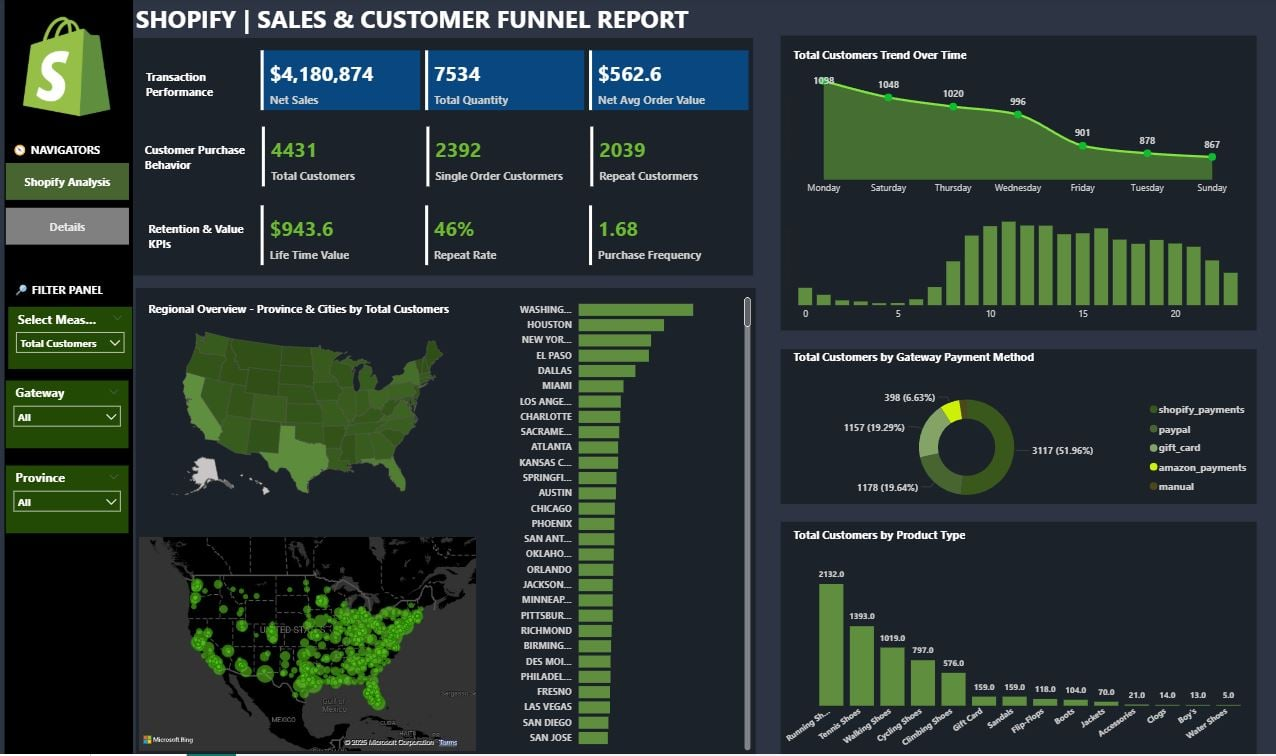

The page's visual inventory and layout, read from the dashboard file:
{"tool":"powerbi","page":{"name":"Shopify Analysis","canvas":[1700,1000],"ordinal":0},"visuals":[{"type":"shape","box":[9.1,0,170,1000.5],"z":0},{"type":"textbox","box":[178.6,0,761.8,63.8],"z":1000},{"type":"shape","box":[180.2,52.9,820.1,314.2],"z":2000},{"type":"cardVisual","fields":{"Data":["shopify_sales.Net Sales","shopify_sales.Total Quantity","shopify_sales.Net Avg Order Value"]},"box":[343.9,64.5,656.4,89.3],"z":3000},{"type":"cardVisual","fields":{"Data":["shopify_sales.Transactipn Perf"]},"box":[180.2,64.5,162,89.3],"z":4000},{"type":"cardVisual","fields":{"Data":["shopify_sales.Total Customers","shopify_sales.Single Order Custormers","shopify_sales.Repeat Custormers"]},"box":[345.6,165.3,656.4,89.3],"z":5000},{"type":"cardVisual","fields":{"Data":["shopify_sales.Customer Purchase Behavior"]},"box":[178.6,165.3,185.2,104.2],"z":6000},{"type":"cardVisual","fields":{"Data":["shopify_sales.Avg LTV","shopify_sales.Repeat Rate","shopify_sales.Purchase Frequency"]},"box":[344.3,269.3,656.4,89.3],"z":7000},{"type":"cardVisual","fields":{"Data":["shopify_sales.RetentionValue"]},"box":[183.9,269.3,160.4,89.3],"z":8000},{"type":"shape","box":[183.5,383.6,820.1,616.7],"z":9000},{"type":"shapeMap","fields":{"Value":["shopify_sales.Net Sales"],"Category":["shopify_sales.Billing Address Province"]},"box":[183.5,424.9,454.7,249.7],"z":10000},{"type":"slicer","fields":{"Values":["Select Measure.Select Measure"]},"box":[14.9,408.4,163.7,82.7],"z":11000},{"type":"map","fields":{"Size":["shopify_sales.Net Sales"],"Category":["shopify_sales.Location"]},"box":[183.5,707.7,454.7,292.7],"z":12000},{"type":"clusteredBarChart","fields":{"Y":["shopify_sales.Net Sales"],"Category":["shopify_sales.CITY"]},"box":[674.6,383.6,327.4,616.7],"z":13000},{"type":"cardVisual","fields":{"Data":["shopify_sales.Map Title"]},"box":[183.5,375.3,469.6,64.5],"z":14000},{"type":"shape","box":[1036.7,49.6,630,390.2],"z":15000},{"type":"areaChart","fields":{"Y":["shopify_sales.Net Sales"],"Category":["shopify_sales.DayOfWeekName"]},"box":[1036.7,90.9,610.1,178.6],"z":16000},{"type":"columnChart","fields":{"Y":["shopify_sales.Net Sales"],"Category":["shopify_sales.Hour"]},"box":[1036.7,269.5,610.1,167],"z":17000},{"type":"cardVisual","fields":{"Data":["shopify_sales.Trend Title"]},"box":[1036.7,39.7,400.1,51.3],"z":18000},{"type":"shape","box":[1036.7,464.6,630,205],"z":19000},{"type":"donutChart","fields":{"Y":["shopify_sales.Net Sales"],"Category":["shopify_sales.Gateway"]},"box":[1036.7,509.3,630,170.3],"z":20000},{"type":"cardVisual","fields":{"Data":["shopify_sales.Gateway Title Payment"]},"box":[1036.7,439.8,400.1,51.3],"z":21000},{"type":"shape","box":[1036.7,692.8,630,307.5],"z":22000},{"type":"clusteredColumnChart","fields":{"Y":["shopify_sales.Net Sales"],"Category":["shopify_sales.Product Type"]},"box":[1036.7,739.1,630,261.2],"z":23000},{"type":"cardVisual","fields":{"Data":["shopify_sales.Product Title"]},"box":[1036.7,674.6,400.1,51.3],"z":24000},{"type":"image","box":[21.5,19.8,142.2,142.2],"z":25000},{"type":"slicer","fields":{"Values":["shopify_sales.Gateway"]},"box":[11.6,506,162,89.3],"z":25001},{"type":"slicer","fields":{"Values":["shopify_sales.Billing Address Province"]},"box":[11.6,618.4,162,89.3],"z":25002},{"type":"pageNavigator","box":[11.6,218.3,163.7,109.1],"z":25003},{"type":"cardVisual","fields":{"Data":["shopify_sales.SectionTitle"]},"box":[3.3,165.3,183.5,64.5],"z":25004},{"type":"cardVisual","fields":{"Data":["shopify_sales.SectionTitle1"]},"box":[5,350.5,183.5,64.5],"z":25006}]}

Visuals, with their boxes on the page's 1700x1000 design canvas (x1, y1, x2, y2). These are canvas units, not pixel positions in the 1276x756 screenshot, which may show the page scaled, cropped or inside an application window:
shape: rect(9, 0, 179, 1000)
textbox: rect(179, 0, 940, 64)
shape: rect(180, 53, 1000, 367)
cardVisual - shopify_sales.Net Sales x shopify_sales.Total Quantity: rect(344, 64, 1000, 154)
cardVisual - shopify_sales.Transactipn Perf: rect(180, 64, 342, 154)
cardVisual - shopify_sales.Total Customers x shopify_sales.Single Order Custormers: rect(346, 165, 1002, 255)
cardVisual - shopify_sales.Customer Purchase Behavior: rect(179, 165, 364, 270)
cardVisual - shopify_sales.Avg LTV x shopify_sales.Repeat Rate: rect(344, 269, 1001, 359)
cardVisual - shopify_sales.RetentionValue: rect(184, 269, 344, 359)
shape: rect(184, 384, 1004, 1000)
shapeMap - shopify_sales.Net Sales x shopify_sales.Billing Address Province: rect(184, 425, 638, 675)
slicer - Select Measure.Select Measure: rect(15, 408, 179, 491)
map - shopify_sales.Net Sales x shopify_sales.Location: rect(184, 708, 638, 1000)
clusteredBarChart - shopify_sales.Net Sales x shopify_sales.CITY: rect(675, 384, 1002, 1000)
cardVisual - shopify_sales.Map Title: rect(184, 375, 653, 440)
shape: rect(1037, 50, 1667, 440)
areaChart - shopify_sales.Net Sales x shopify_sales.DayOfWeekName: rect(1037, 91, 1647, 270)
columnChart - shopify_sales.Net Sales x shopify_sales.Hour: rect(1037, 270, 1647, 436)
cardVisual - shopify_sales.Trend Title: rect(1037, 40, 1437, 91)
shape: rect(1037, 465, 1667, 670)
donutChart - shopify_sales.Net Sales x shopify_sales.Gateway: rect(1037, 509, 1667, 680)
cardVisual - shopify_sales.Gateway Title Payment: rect(1037, 440, 1437, 491)
shape: rect(1037, 693, 1667, 1000)
clusteredColumnChart - shopify_sales.Net Sales x shopify_sales.Product Type: rect(1037, 739, 1667, 1000)
cardVisual - shopify_sales.Product Title: rect(1037, 675, 1437, 726)
image: rect(22, 20, 164, 162)
slicer - shopify_sales.Gateway: rect(12, 506, 174, 595)
slicer - shopify_sales.Billing Address Province: rect(12, 618, 174, 708)
pageNavigator: rect(12, 218, 175, 327)
cardVisual - shopify_sales.SectionTitle: rect(3, 165, 187, 230)
cardVisual - shopify_sales.SectionTitle1: rect(5, 350, 188, 415)
